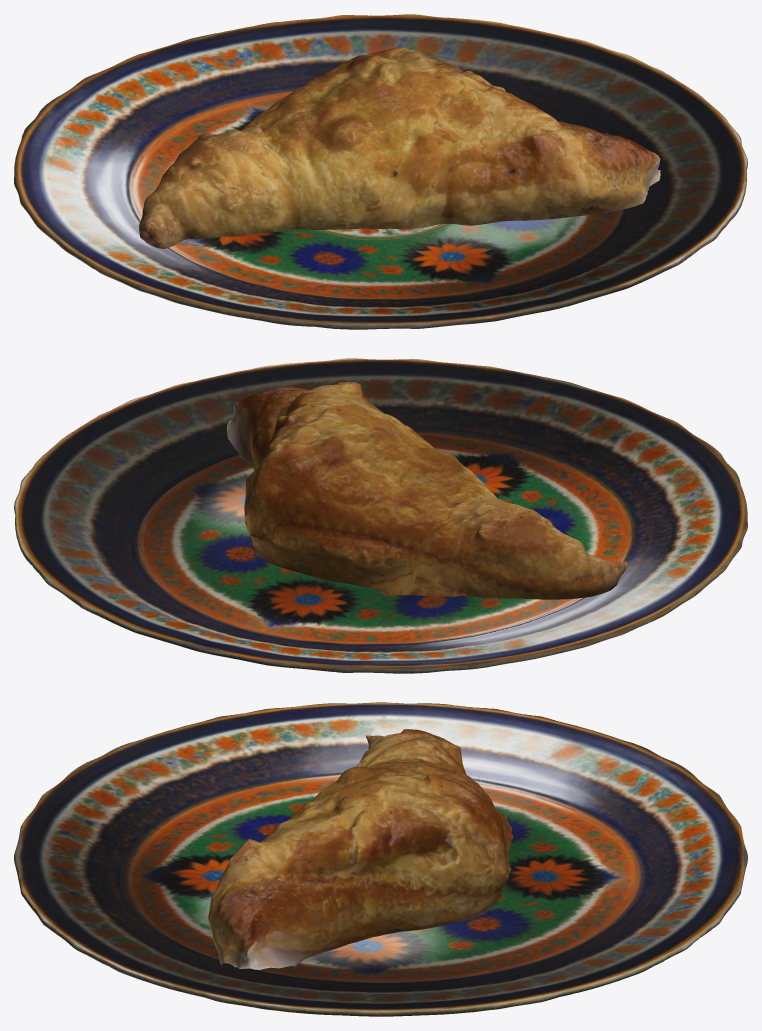
The model's file is veg_pastry.rapid.glb.
3 views of the same model, one above another, from view 1: azimuth 30°, elevation 25°; view 2: azimuth 150°, elevation 25°; view 3: azimuth 270°, elevation 25° (orthographic).
Bounding box in the file's own units: 0.2002 × 0.0359 × 0.2003.
Materials: 1 (1 with a texture image).
